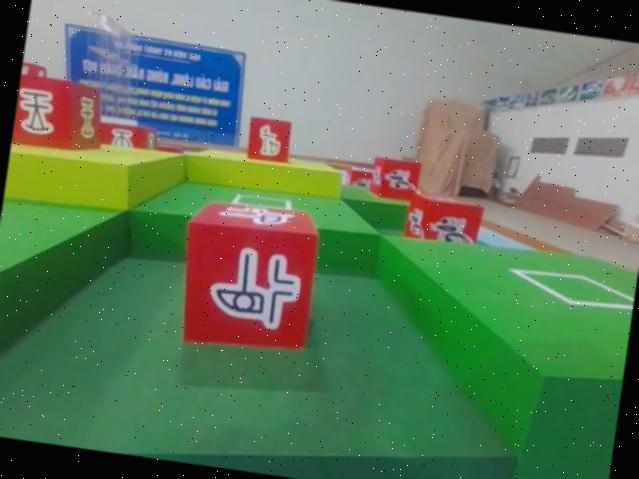R1: (400, 183, 485, 255), (365, 152, 424, 207)
R2 Real: (171, 191, 327, 363), (10, 73, 106, 164), (239, 113, 298, 168)
